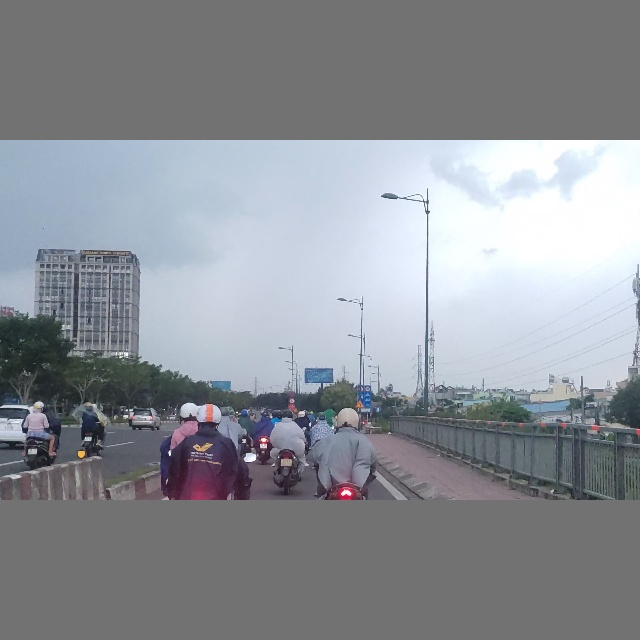P.127*50: (365, 386, 370, 392)
W.201a: (355, 399, 364, 408)
